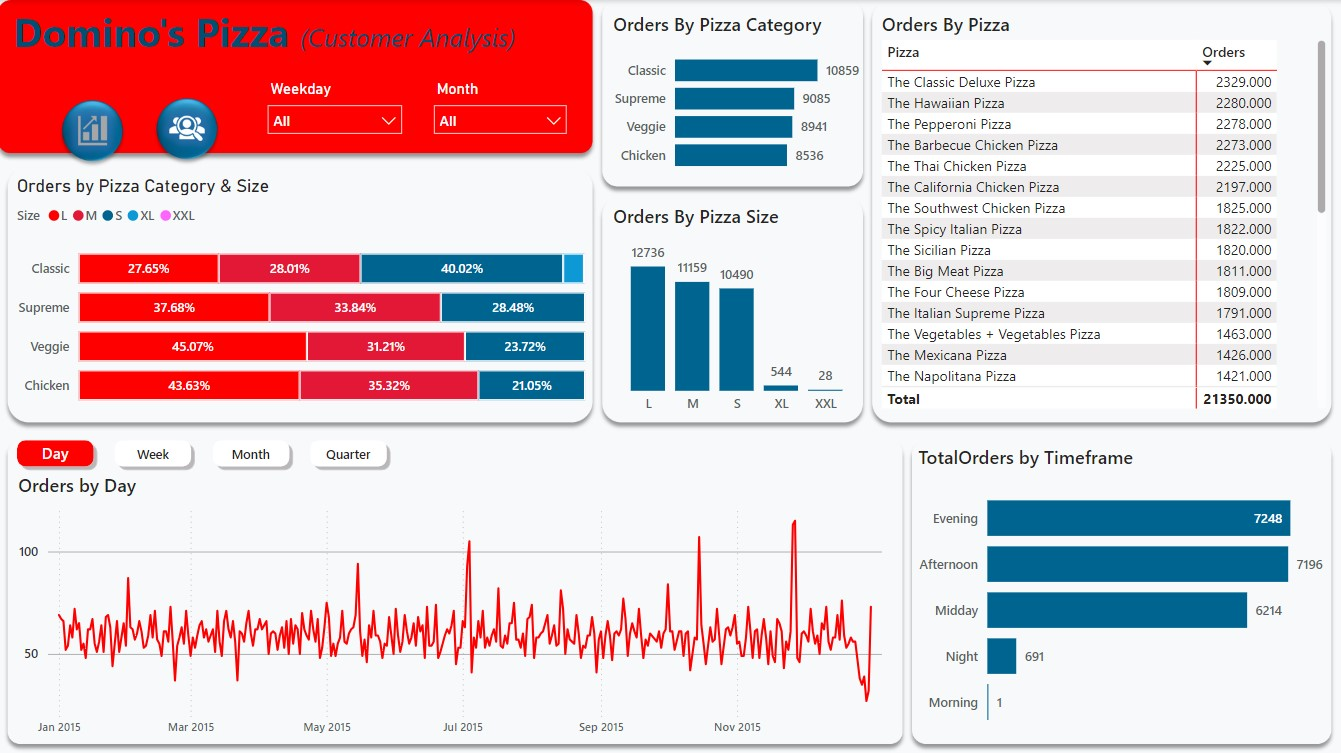

Layout of this report page (visuals, bound fields, positions):
{"tool":"powerbi","page":{"name":"Page 2","canvas":[1280,720],"ordinal":1},"visuals":[{"type":"clusteredColumnChart","title":"Orders By Pizza Size","fields":{"Category":["sales_table.pizza_size"],"Y":["Calculations.TotalOrders"]},"box":[581,194,246.4,208.3],"z":0},{"type":"pivotTable","title":"Orders By Pizza","fields":{"Rows":["sales_table.pizza_name"],"Values":["Calculations.TotalOrders"]},"box":[836.9,10.7,433.3,383.3],"z":1000},{"type":"clusteredBarChart","fields":{"Category":["sales_table.Timeframe"],"Y":["Calculations.TotalOrders"]},"box":[871.4,423.8,398.8,285.7],"z":2000},{"type":"hundredPercentStackedBarChart","title":"Orders by Pizza Category & Size","fields":{"Category":["sales_table.pizza_category"],"Series":["sales_table.pizza_size"],"Y":["Calculations.TotalOrders"]},"box":[13.1,166.7,551.2,235.7],"z":3000},{"type":"clusteredBarChart","title":"Orders By Pizza Category","fields":{"Y":["Calculations.TotalOrders"],"Category":["sales_table.pizza_category"]},"box":[581,10.7,246.4,164.3],"z":4000},{"type":"lineChart","title":"Orders by Day","fields":{"Y":["Calculations.TotalOrders"],"Category":["date_table.Date"]},"box":[14.3,450,845.2,259.5],"z":8000},{"type":"bookmarkNavigator","box":[13.1,414.3,363.1,35.7],"z":9000},{"type":"textbox","box":[9.5,0,504.8,61.9],"z":10000},{"type":"slicer","fields":{"Values":["date_table.Month"]},"box":[405.3,71.7,147,72.9],"z":11000},{"type":"slicer","fields":{"Values":["date_table.Weekday"]},"box":[245.9,71.7,148.3,72.9],"z":12000},{"type":"actionButton","box":[53.6,88.1,71,71.4],"z":13000}]}

Visuals, with their boxes in screenshot pixels (x1, y1, x2, y2), scaled from the page's 1280x720 canvas onto the 1341x753 screenshot:
"Orders By Pizza Size" clusteredColumnChart: (609, 203, 867, 421)
"Orders By Pizza" pivotTable: (877, 11, 1331, 412)
clusteredBarChart - sales_table.Timeframe x Calculations.TotalOrders: (913, 443, 1331, 742)
"Orders by Pizza Category & Size" hundredPercentStackedBarChart: (14, 174, 591, 421)
"Orders By Pizza Category" clusteredBarChart: (609, 11, 867, 183)
"Orders by Day" lineChart: (15, 471, 900, 742)
bookmarkNavigator: (14, 433, 394, 471)
textbox: (10, 0, 539, 65)
slicer - date_table.Month: (425, 75, 579, 151)
slicer - date_table.Weekday: (258, 75, 413, 151)
actionButton: (56, 92, 131, 167)
